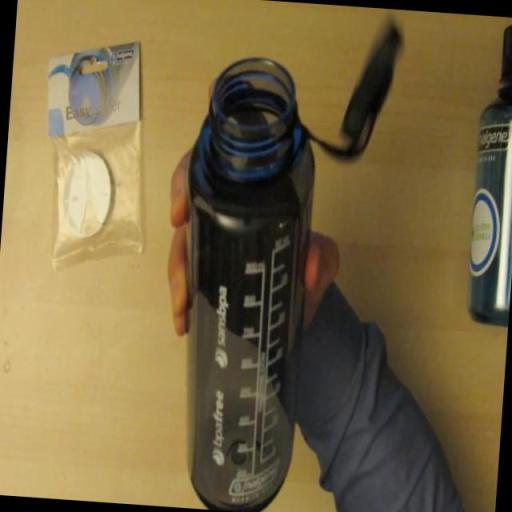bottle: (163, 53, 322, 512)
